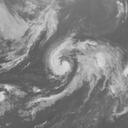cyclone: (44, 36, 99, 85)
